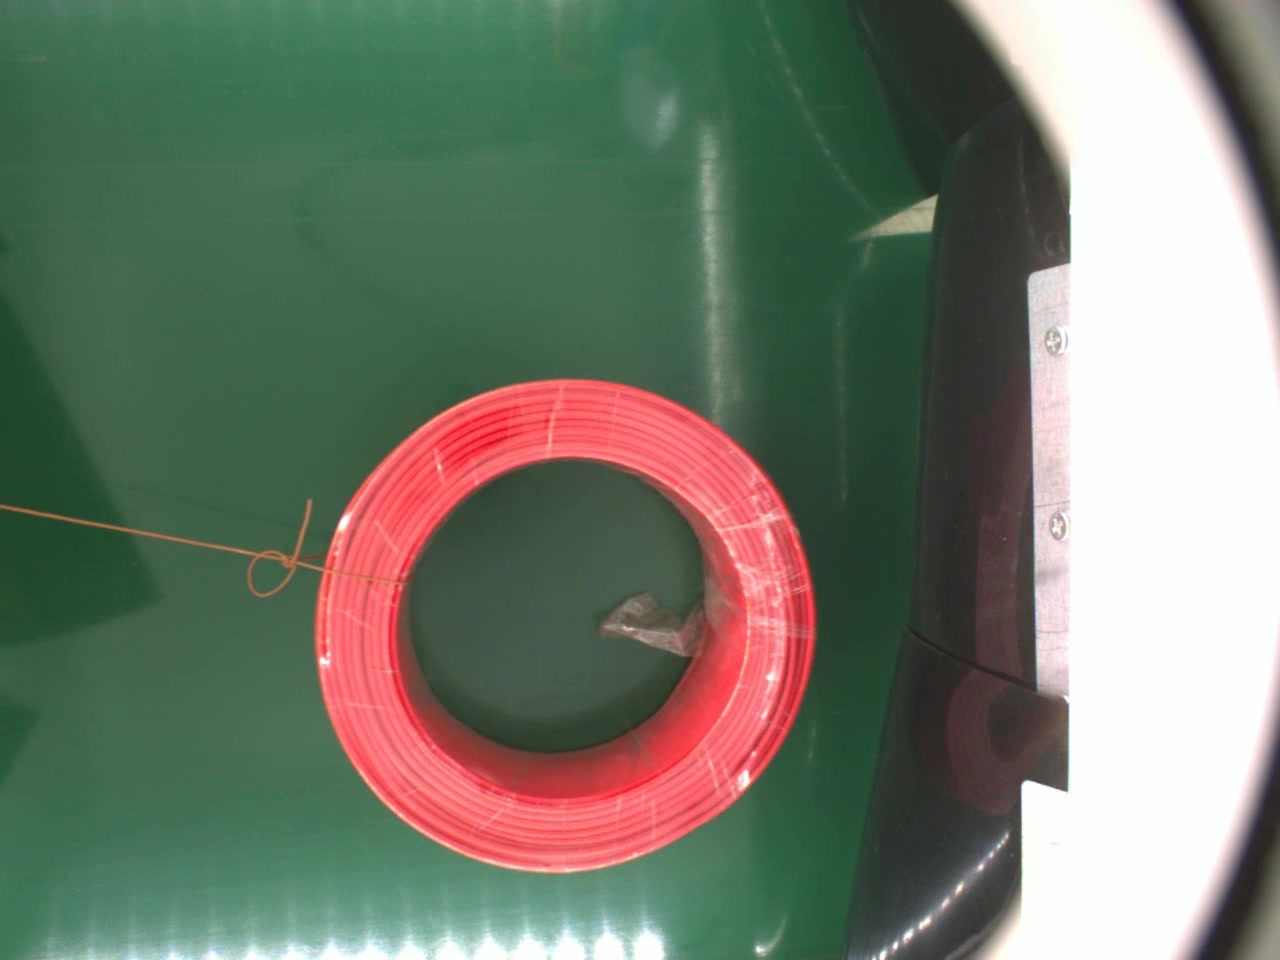red: (306, 369, 825, 880)
